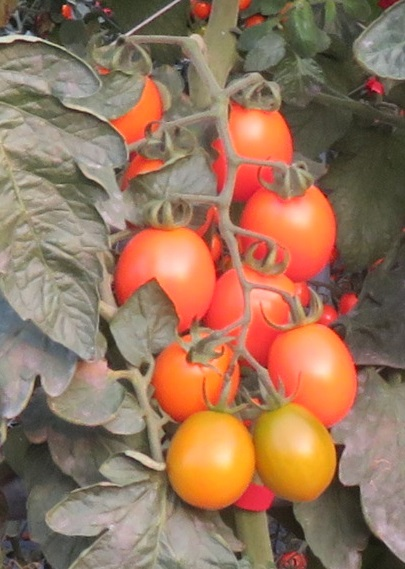orange: (110, 222, 218, 328), (240, 182, 344, 277), (254, 401, 337, 504), (264, 324, 358, 412), (171, 411, 246, 514), (216, 103, 294, 198), (153, 331, 236, 413)
